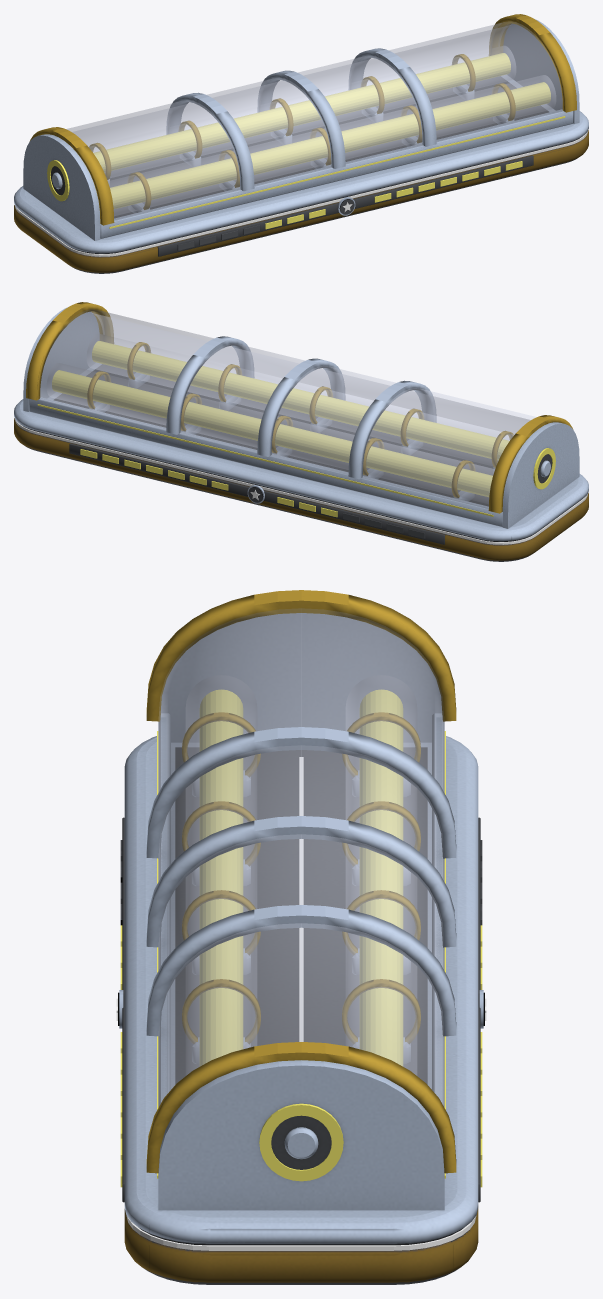
File: SM_Evo_PowerBank.fbx
3 views of the same model, one above another, from view 1: azimuth 30°, elevation 25°; view 2: azimuth 150°, elevation 25°; view 3: azimuth 270°, elevation 25° (orthographic). The views are drawn at different scales.
Parts seen in each view (by area): view 1: SMN_Evo_PowerBank, Emblem_Fx_PowerBank; view 2: SMN_Evo_PowerBank, Emblem_Fx_PowerBank; view 3: SMN_Evo_PowerBank, Emblem_Fx_PowerBank.
Boxes of the visible parts, x1=… form: SMN_Evo_PowerBank: x1=14, y1=14, x2=588, y2=273; Emblem_Fx_PowerBank: x1=15, y1=21, x2=587, y2=256; SMN_Evo_PowerBank: x1=14, y1=302, x2=588, y2=561; Emblem_Fx_PowerBank: x1=15, y1=309, x2=587, y2=544; SMN_Evo_PowerBank: x1=118, y1=590, x2=484, y2=1284; Emblem_Fx_PowerBank: x1=116, y1=608, x2=486, y2=1250.
Bounding box in the file's own units: 2.84 × 0.58 × 0.879.
